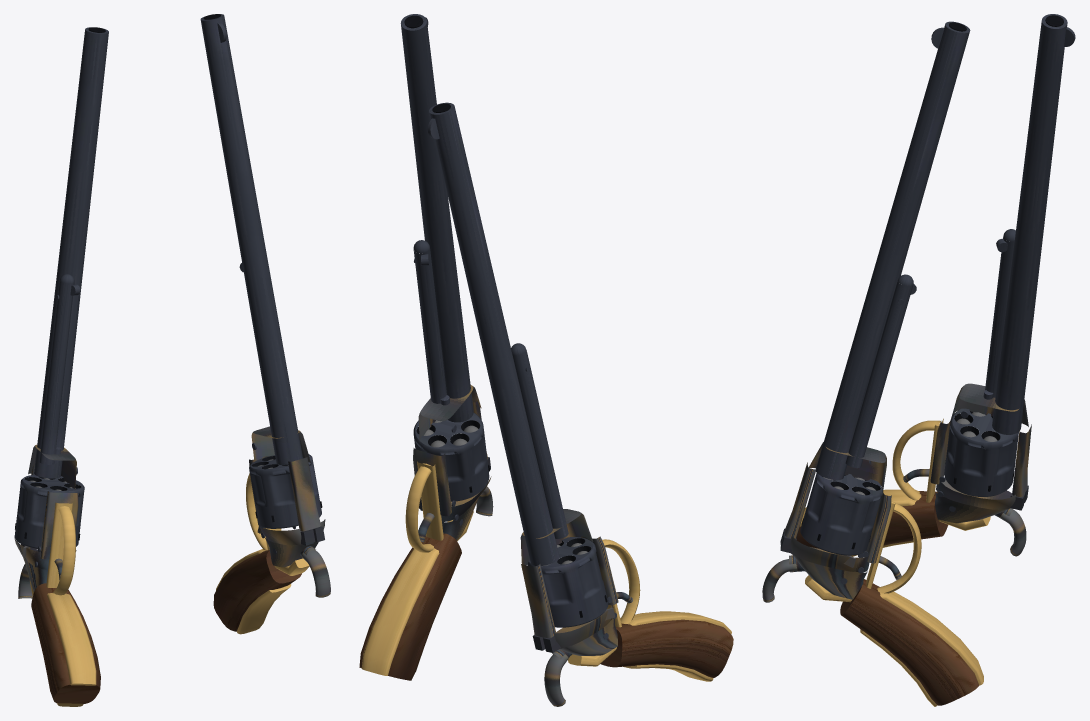
The model's file is gun.buntline.glb.
The picture shows the model from 3 angles, left to right: view 1: azimuth 30°, elevation 25°; view 2: azimuth 150°, elevation 25°; view 3: azimuth 270°, elevation 25°; orthographic projection. The views are drawn at different scales.
Parts seen in each view (by area): view 1: revolver (×2); view 2: revolver (×2); view 3: revolver (×2).
Part boxes in pixels (x1,y1,x2,y2): revolver (×2): (14, 14, 330, 706); revolver (×2): (359, 14, 733, 706); revolver (×2): (762, 14, 1075, 706).
Size of the model in its own units: 0.2389 by 0.5198 by 0.2218.
Materials: 1 (1 with a texture image).
